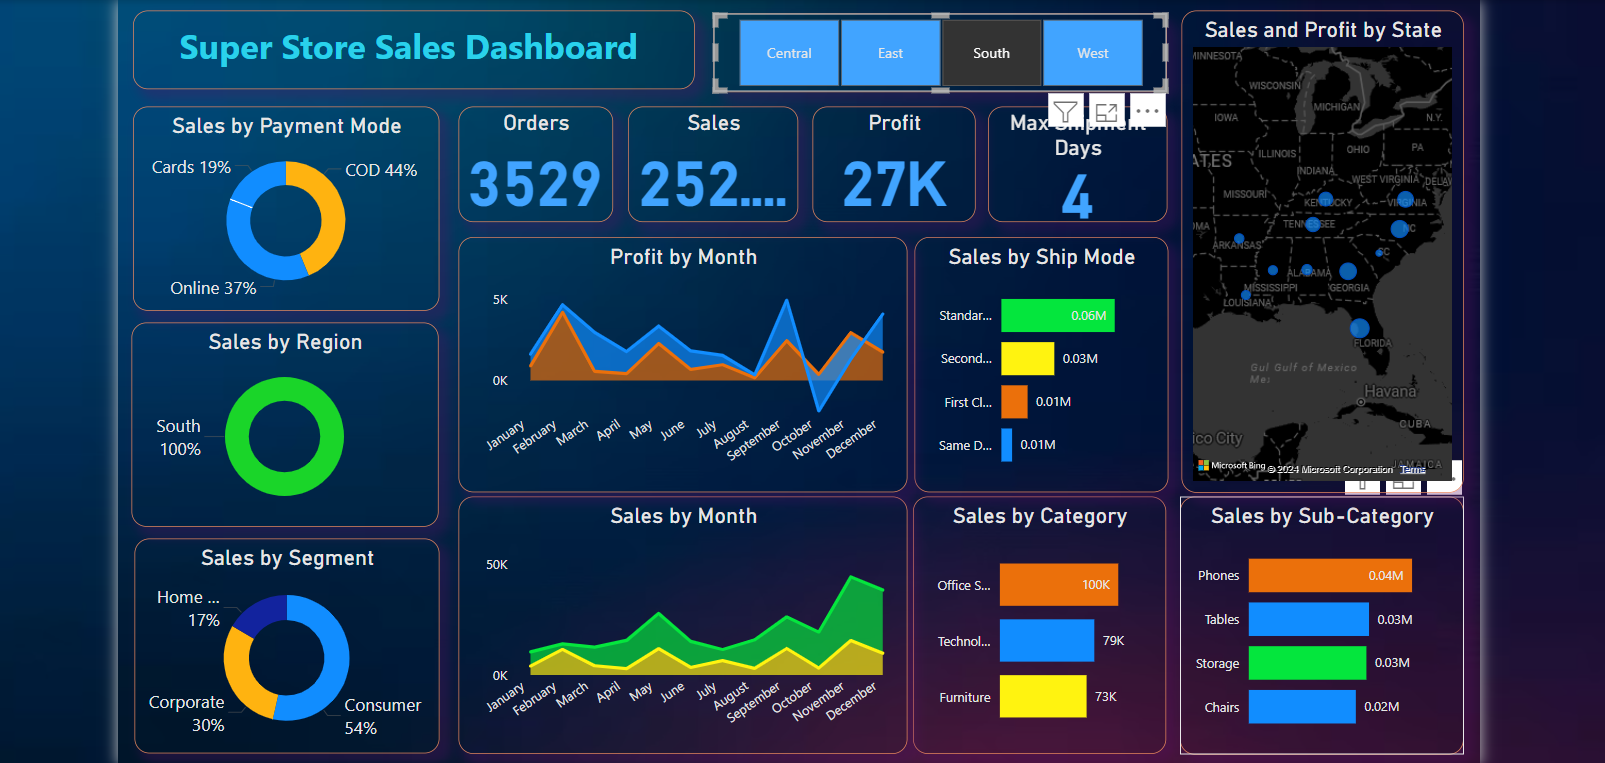

The dashboard page shown, as its layout file describes it:
{"tool":"powerbi","page":{"name":"Page 1","canvas":[1280,720],"ordinal":0},"visuals":[{"type":"clusteredBarChart","title":"Sales by Category","fields":{"Category":["SuperStore_Sales_Dataset.Category"],"Y":["Sum(SuperStore_Sales_Dataset.Sales)"]},"box":[747.8,466.7,237.8,242.2],"z":0},{"type":"clusteredBarChart","title":"Sales by  Sub-Category","fields":{"Y":["Sum(SuperStore_Sales_Dataset.Sales)"],"Category":["SuperStore_Sales_Dataset.Sub-Category"]},"box":[1000,466.7,265.6,242.2],"z":1000},{"type":"clusteredBarChart","title":"Sales by  Ship Mode","fields":{"Y":["Sum(SuperStore_Sales_Dataset.Sales)"],"Category":["SuperStore_Sales_Dataset.Ship Mode"]},"box":[748.3,223.3,238.3,240],"z":2000},{"type":"stackedAreaChart","title":"Sales by Month","fields":{"Category":["SuperStore_Sales_Dataset.Order Date.Variation.Date Hierarchy.Month","SuperStore_Sales_Dataset.Order Date.Variation.Date Hierarchy.Day"],"Y":["Sum(SuperStore_Sales_Dataset.Sales)"],"Series":["SuperStore_Sales_Dataset.Order Date.Variation.Date Hierarchy.Year"]},"box":[320,466.7,422.2,242.2],"z":3000},{"type":"stackedAreaChart","title":"Profit by Month","fields":{"Category":["SuperStore_Sales_Dataset.Order Date.Variation.Date Hierarchy.Month","SuperStore_Sales_Dataset.Order Date.Variation.Date Hierarchy.Day"],"Series":["SuperStore_Sales_Dataset.Order Date.Variation.Date Hierarchy.Year"],"Y":["Sum(SuperStore_Sales_Dataset.Profit)"]},"box":[320,223.3,422.2,240],"z":4000},{"type":"map","title":"Sales and Profit by State","fields":{"Category":["SuperStore_Sales_Dataset.State"],"Size":["Sum(SuperStore_Sales_Dataset.Sales)"]},"box":[1000,10,265.6,453.3],"z":5000},{"type":"donutChart","title":"Sales by Payment Mode","fields":{"Y":["Sum(SuperStore_Sales_Dataset.Sales)"],"Category":["SuperStore_Sales_Dataset.Payment Mode"]},"box":[14,100,288,192],"z":6000},{"type":"donutChart","title":"Sales by Region","fields":{"Y":["Sum(SuperStore_Sales_Dataset.Sales)"],"Category":["SuperStore_Sales_Dataset.Region"]},"box":[13.3,303.3,288.3,191.7],"z":7000},{"type":"donutChart","title":"Sales by Payment Mode","fields":{"Y":["Sum(SuperStore_Sales_Dataset.Sales)"],"Category":["SuperStore_Sales_Dataset.Segment"]},"box":[15,506.7,286.7,201.7],"z":8000},{"type":"slicer","fields":{"Values":["SuperStore_Sales_Dataset.Region"]},"box":[560,12,426,74],"z":9000},{"type":"textbox","box":[14,10,528,74],"z":10000},{"type":"card","title":"Sales","fields":{"Values":["Sum(SuperStore_Sales_Dataset.Sales)"]},"box":[480,100,160,108.3],"z":11000},{"type":"card","title":"Orders","fields":{"Values":["Sum(SuperStore_Sales_Dataset.Quantity)"]},"box":[320,100,145,108.3],"z":12000},{"type":"card","title":"Profit","fields":{"Values":["Sum(SuperStore_Sales_Dataset.Profit)"]},"box":[653.3,100,153.3,108.3],"z":13000},{"type":"card","title":"Max Shipment Days","fields":{"Values":["Avg(SuperStore_Sales_Dataset.AvgDelivery)"]},"box":[818.3,100,168.3,108.3],"z":14000}]}

Visuals, with their boxes on the page's 1280x720 design canvas (x1, y1, x2, y2). These are canvas units, not pixel positions in the 1605x763 screenshot, which may show the page scaled, cropped or inside an application window:
"Sales by Category" clusteredBarChart: <box>748,467,986,709</box>
"Sales by  Sub-Category" clusteredBarChart: <box>1000,467,1266,709</box>
"Sales by  Ship Mode" clusteredBarChart: <box>748,223,987,463</box>
"Sales by Month" stackedAreaChart: <box>320,467,742,709</box>
"Profit by Month" stackedAreaChart: <box>320,223,742,463</box>
"Sales and Profit by State" map: <box>1000,10,1266,463</box>
"Sales by Payment Mode" donutChart: <box>14,100,302,292</box>
"Sales by Region" donutChart: <box>13,303,302,495</box>
"Sales by Payment Mode" donutChart: <box>15,507,302,708</box>
slicer - SuperStore_Sales_Dataset.Region: <box>560,12,986,86</box>
textbox: <box>14,10,542,84</box>
"Sales" card: <box>480,100,640,208</box>
"Orders" card: <box>320,100,465,208</box>
"Profit" card: <box>653,100,807,208</box>
"Max Shipment Days" card: <box>818,100,987,208</box>
